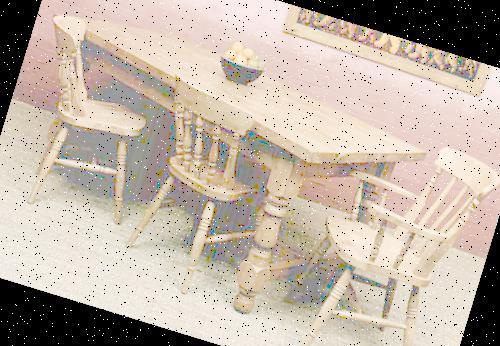Mesa: (0, 0, 442, 345)
Silla: (266, 107, 499, 345), (112, 72, 308, 316), (0, 7, 181, 234)
